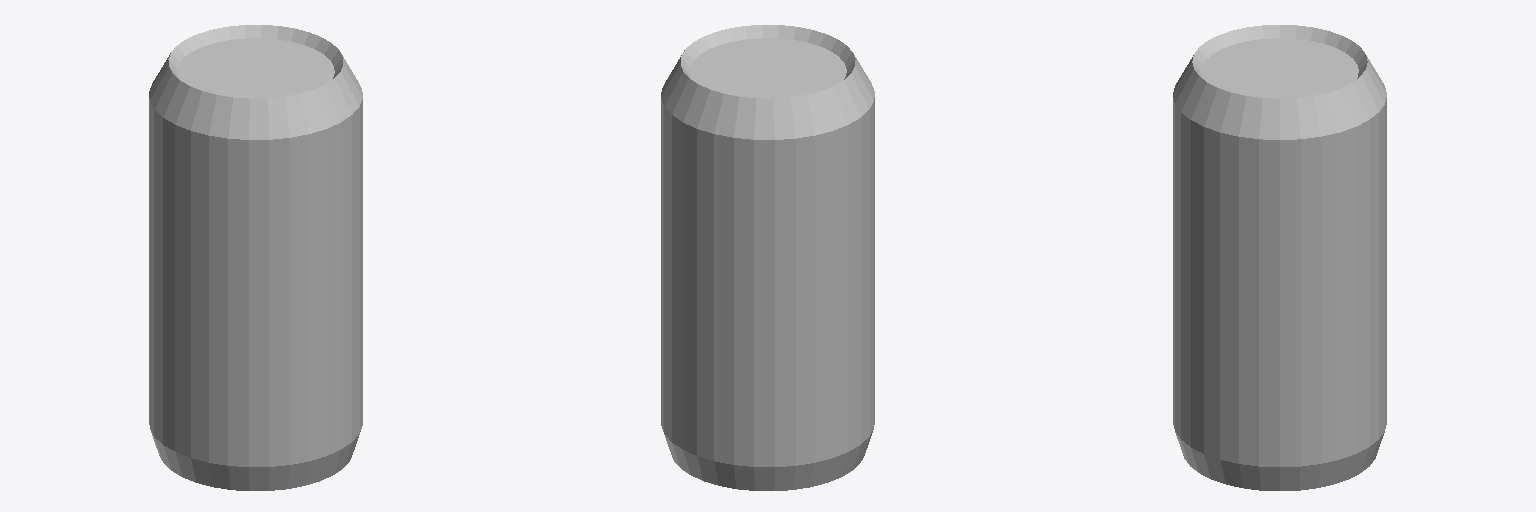
The model's file is power_down.obj.
3 renders of one model, left to right at view 1: azimuth 30°, elevation 25°; view 2: azimuth 150°, elevation 25°; view 3: azimuth 270°, elevation 25°, orthographic.
Visible parts, largest first — view 1: Cylinder_Cylinder.001; view 2: Cylinder_Cylinder.001; view 3: Cylinder_Cylinder.001.
Boxes of the visible parts, box(x1,y1,x2,y2) form: Cylinder_Cylinder.001: box(149, 25, 362, 490); Cylinder_Cylinder.001: box(661, 25, 874, 490); Cylinder_Cylinder.001: box(1173, 25, 1386, 490).
Bounding box in the file's own units: 0.5 × 1 × 0.5.